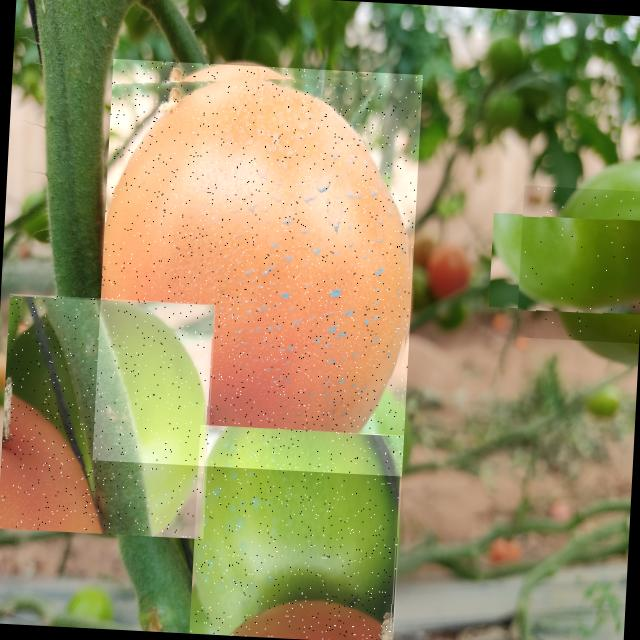Ripe Tomato: (92, 59, 423, 476)
Unripe Tomato: (0, 294, 215, 539), (188, 425, 403, 640), (516, 185, 640, 343)
